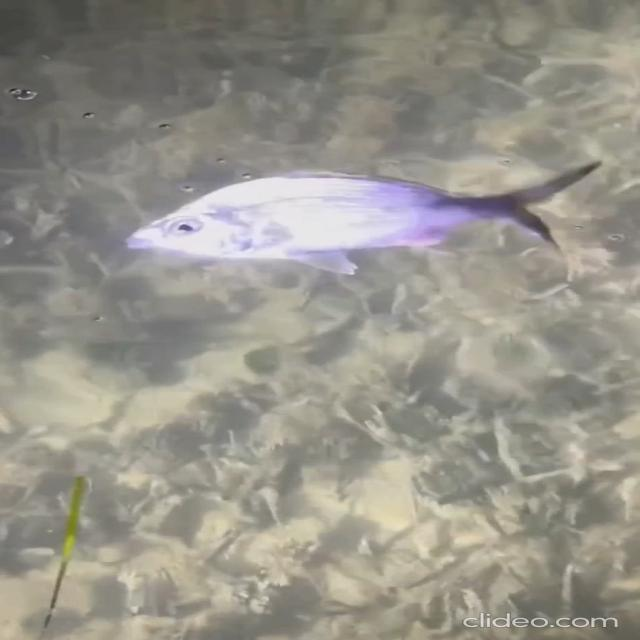fish: (93, 144, 611, 293)
